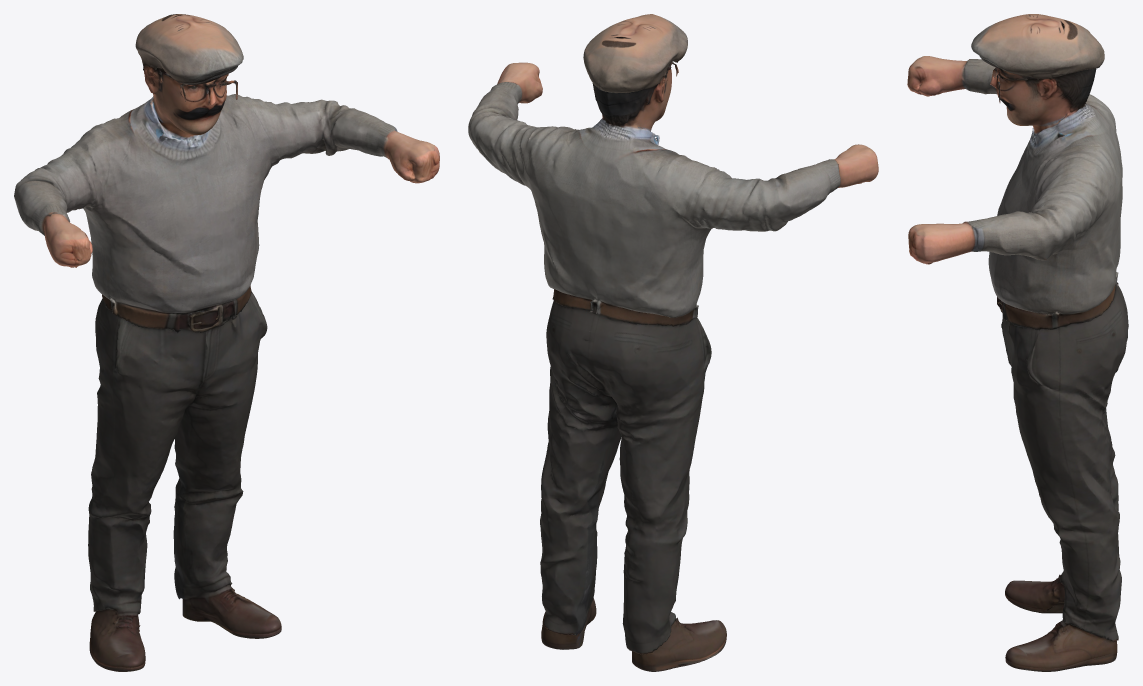
Rendered from Ancleto2.glb.
3 renders of one model, left to right at view 1: azimuth 30°, elevation 25°; view 2: azimuth 150°, elevation 25°; view 3: azimuth 270°, elevation 25°, orthographic. The views are drawn at different scales.
Size of the model in its own units: 1.29 by 2 by 0.6518.
1 material, 1 textured.
